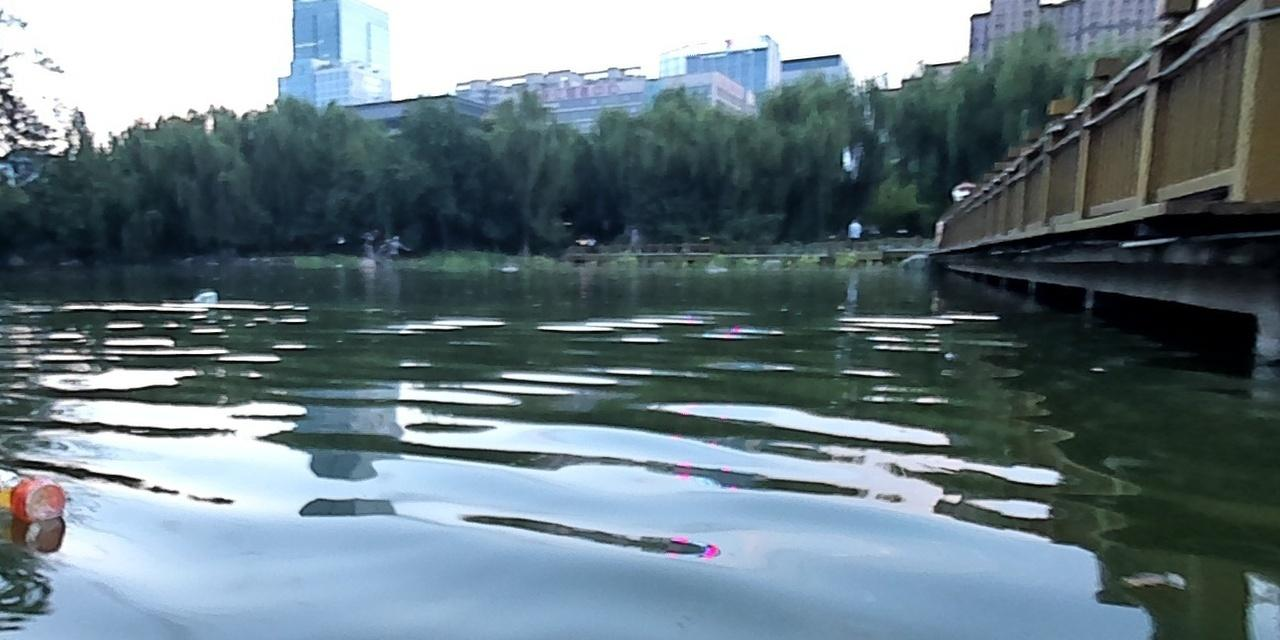bottle: (0, 468, 64, 521), (193, 289, 216, 301)
